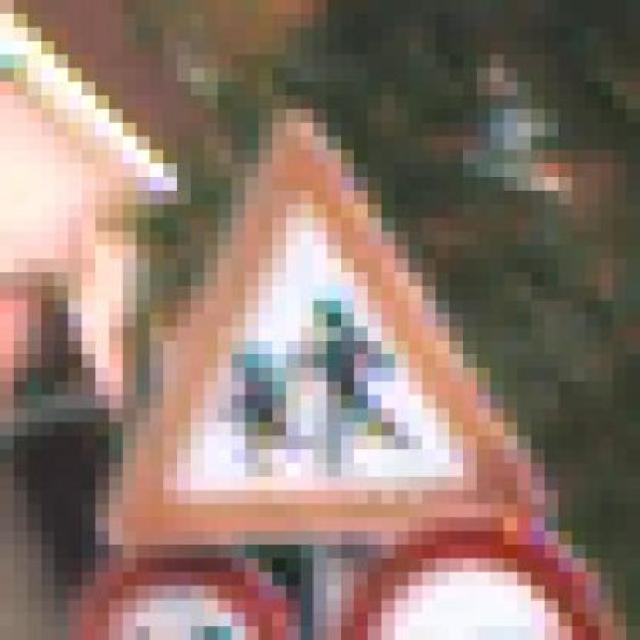Beware of children: (68, 81, 572, 558)
